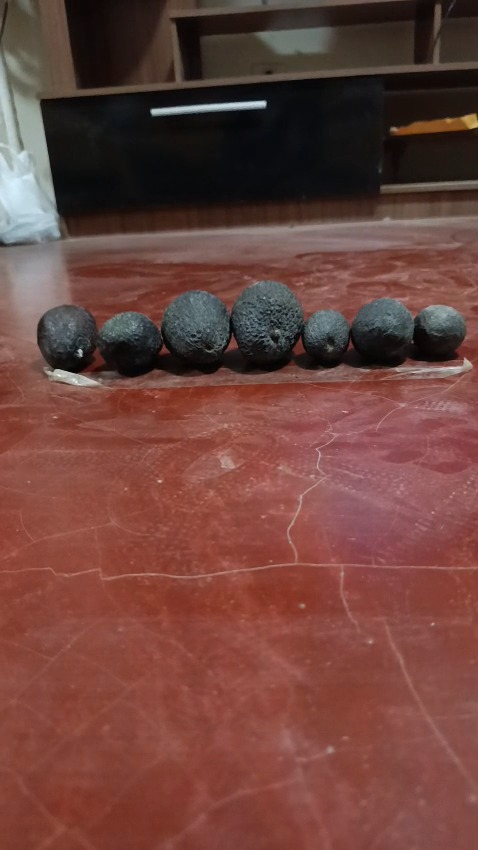Primera: (230, 279, 303, 368), (161, 289, 230, 369)
Segunda: (350, 298, 415, 364), (37, 304, 98, 372), (98, 311, 161, 376)
Tercera: (411, 304, 465, 359), (302, 309, 350, 367)
